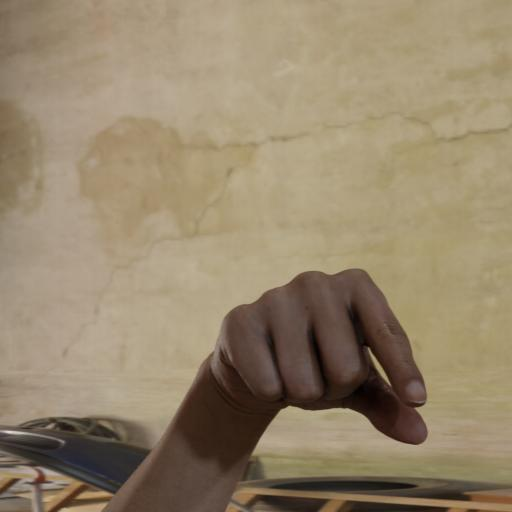Q: (197, 244, 442, 463)
